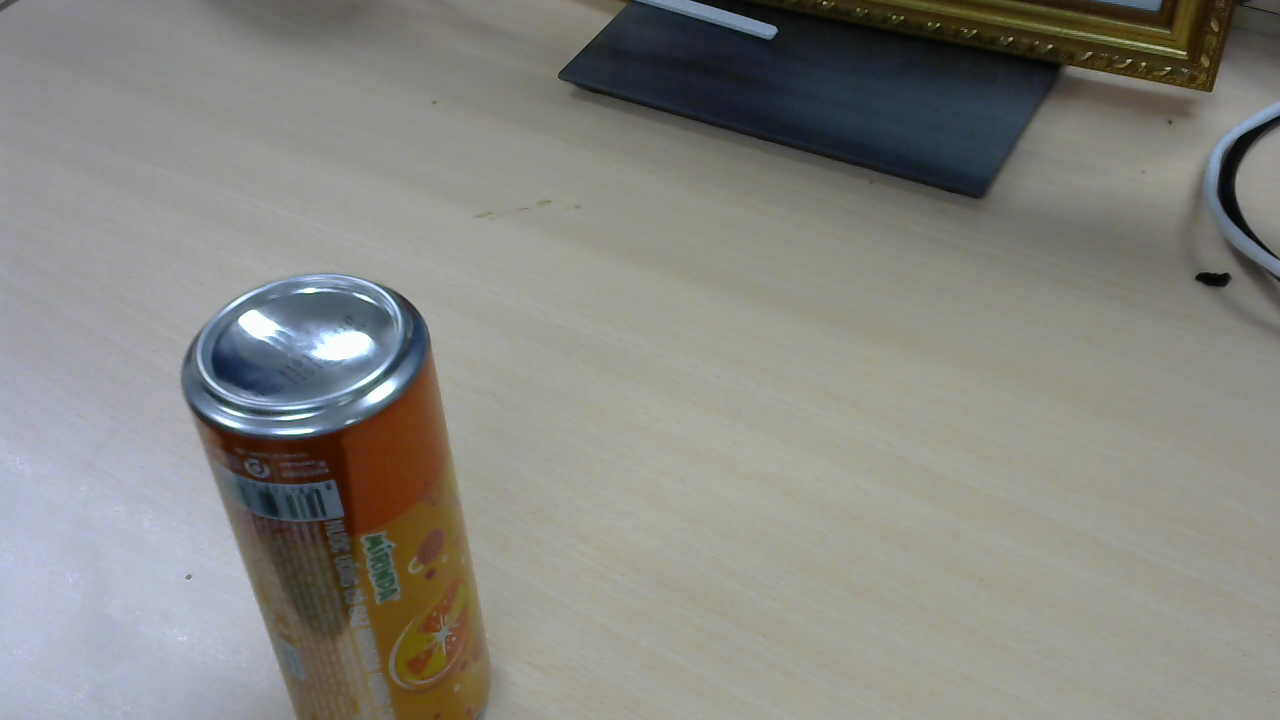Mirinda: (184, 277, 498, 698)
